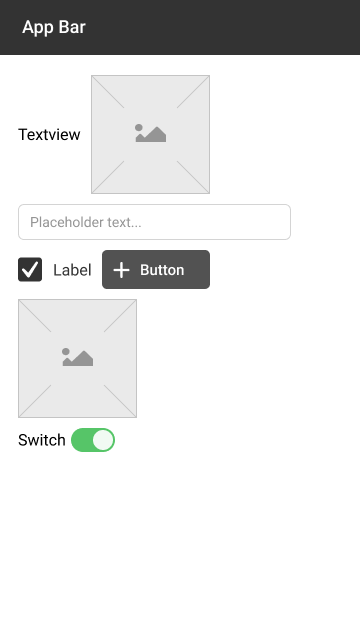buttonImage: (101, 248, 211, 292)
checkBox: (16, 254, 93, 285)
editText: (16, 202, 293, 242)
imageView: (88, 73, 214, 198), (15, 295, 139, 421)
switch: (17, 427, 120, 454)
textView: (16, 126, 82, 144)
toolbar: (1, 1, 360, 56)
